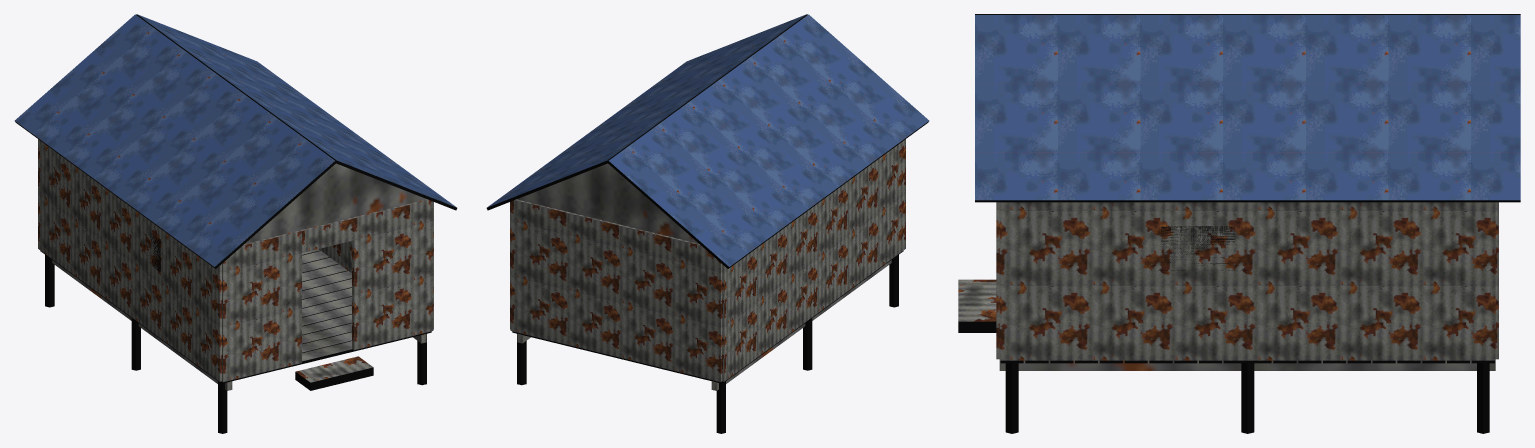
The model's file is SM_boathouse.fbx.
3 renders of one model, left to right at view 1: azimuth 30°, elevation 25°; view 2: azimuth 150°, elevation 25°; view 3: azimuth 270°, elevation 25°, orthographic. The views are drawn at different scales.
Visible parts, largest first — view 1: boathouse_roof_left, boathouse_left, boathouse_front_right, boathouse_front_left, boathouse, boathouse_roof_right, boathouse_front_top, boathouse_right; view 2: boathouse_roof_left, boathouse_back, boathouse_left, boathouse_roof_right, boathouse_front_top, boathouse; view 3: boathouse_roof_right, boathouse_right, boathouse, boathouse_front_right, boathouse_back, boathouse_roof_left.
Part boxes in pixels (x1,y1,x2,y2): boathouse_roof_left: (14,14,336,268); boathouse_left: (38,139,221,381); boathouse_front_right: (352,199,433,349); boathouse_front_left: (222,230,301,381); boathouse: (40,249,431,433); boathouse_roof_right: (136,14,457,210); boathouse_front_top: (245,163,426,252); boathouse_right: (319,202,433,329); boathouse_roof_left: (607,14,929,268); boathouse_back: (510,199,721,381); boathouse_left: (722,139,905,381); boathouse_roof_right: (486,14,807,210); boathouse_front_top: (517,163,698,243); boathouse: (512,251,903,433); boathouse_roof_right: (975,15,1520,202); boathouse_right: (999,202,1495,360); boathouse: (958,279,1495,433); boathouse_front_right: (996,202,999,359); boathouse_back: (1495,202,1498,359); boathouse_roof_left: (975,14,1520,14).
Size of the model in its own units: 4.63 by 4.67 by 6.8.
